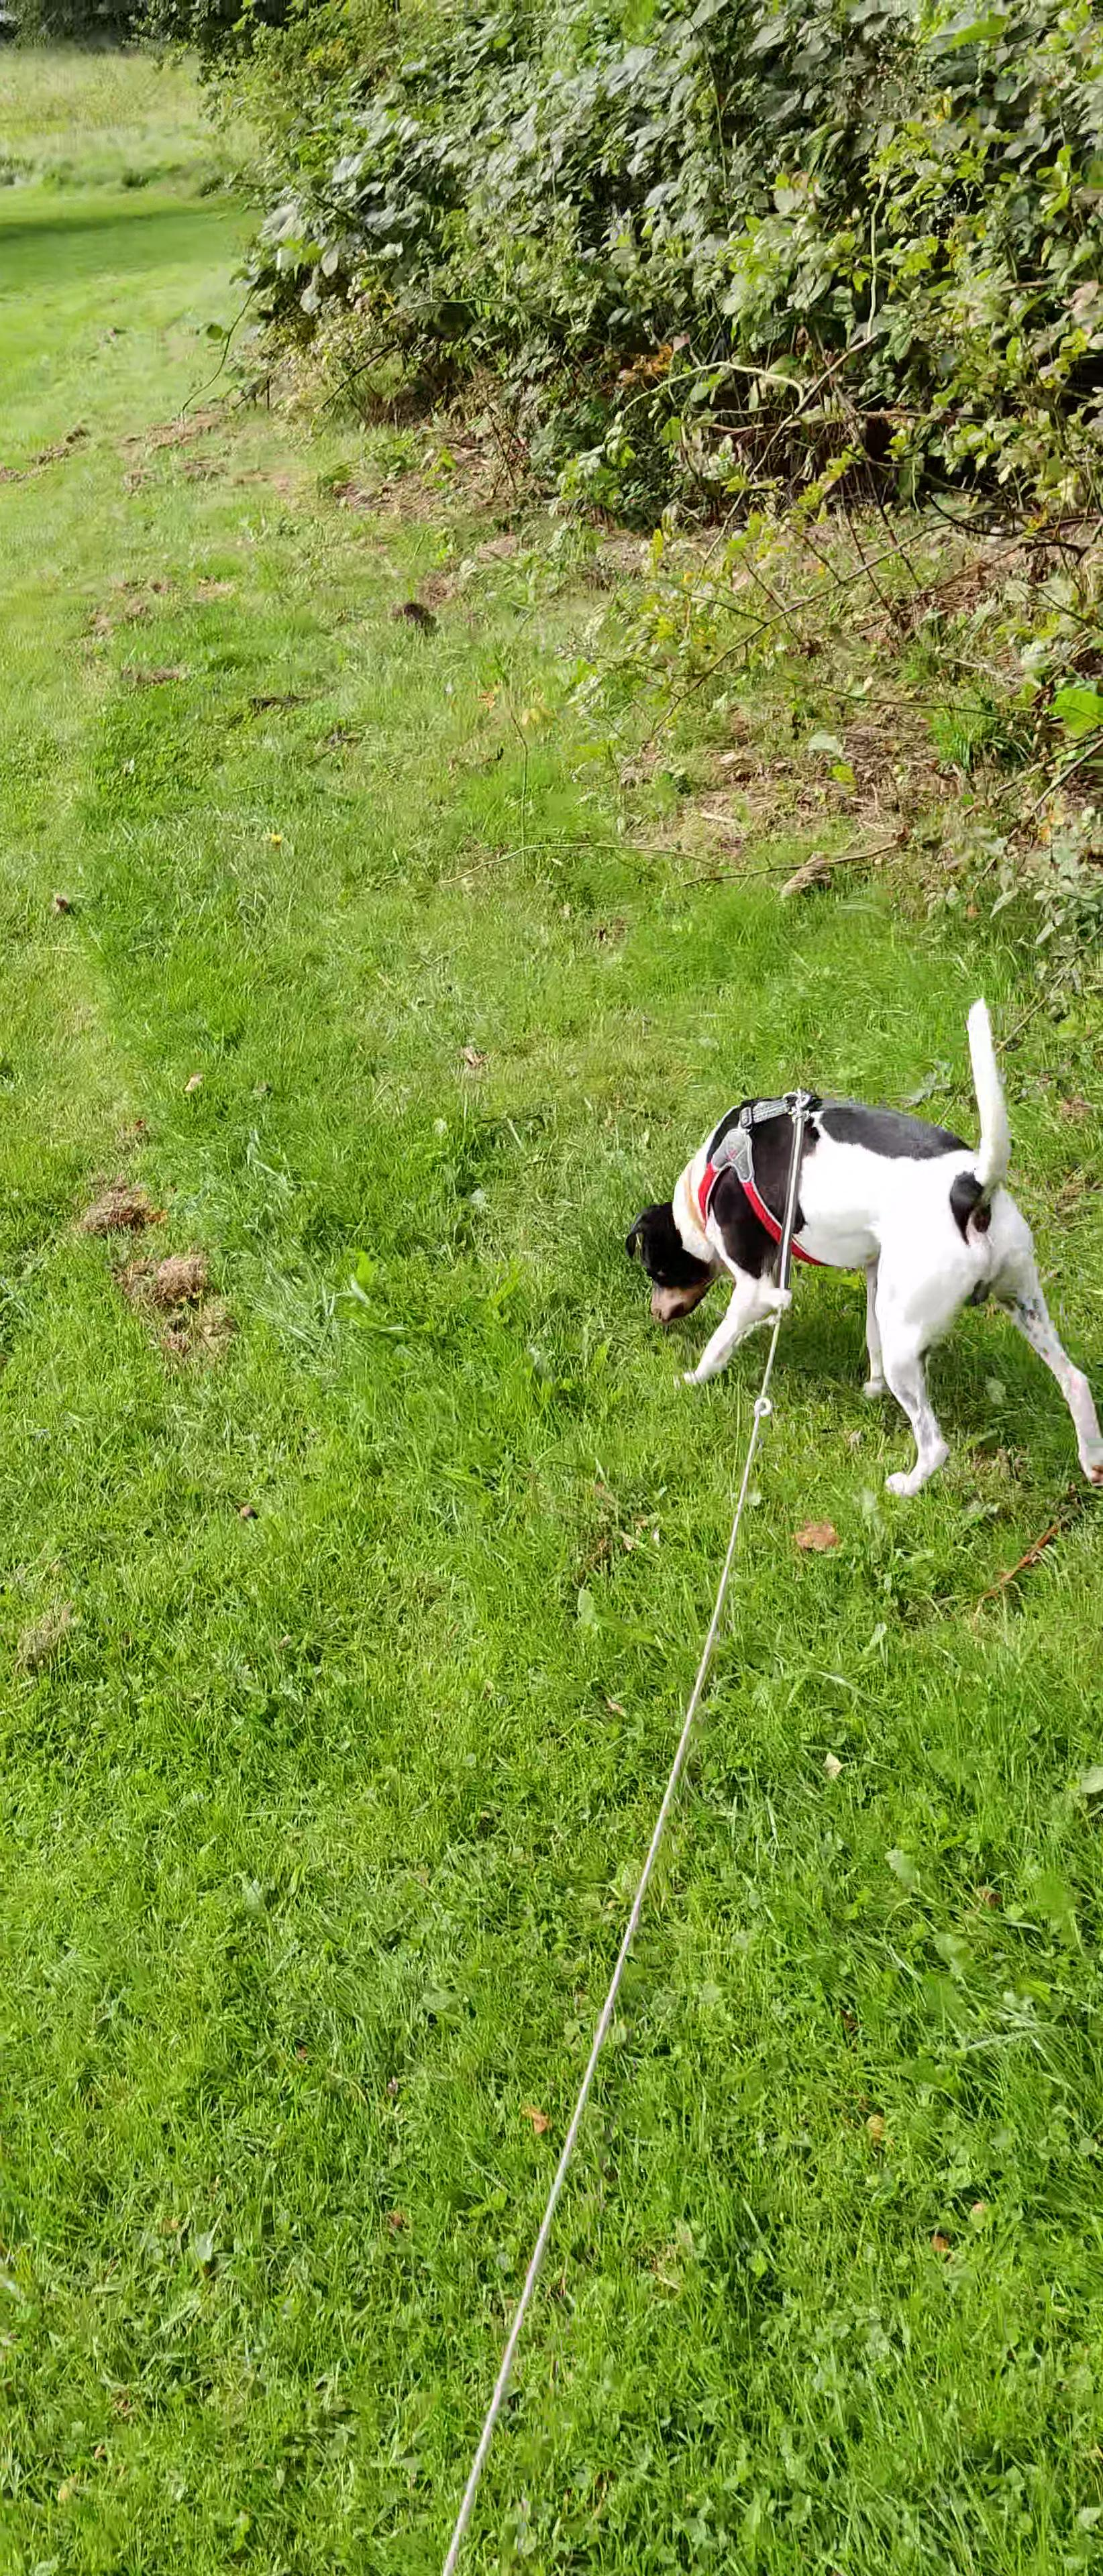Dog: (620, 989, 1103, 1516)
